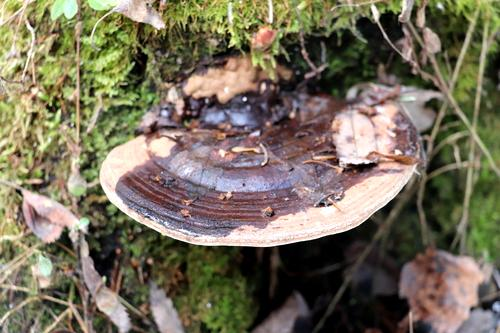Ganoderma - Fruit Body: (102, 62, 425, 249)
